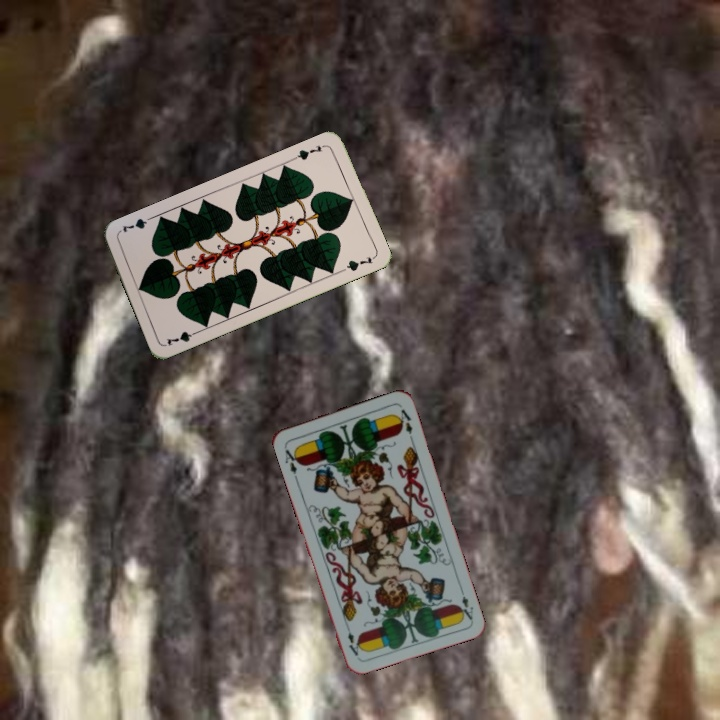EA: (280, 442, 303, 481), (454, 583, 476, 622)
G7: (162, 326, 202, 348), (290, 141, 329, 163)
